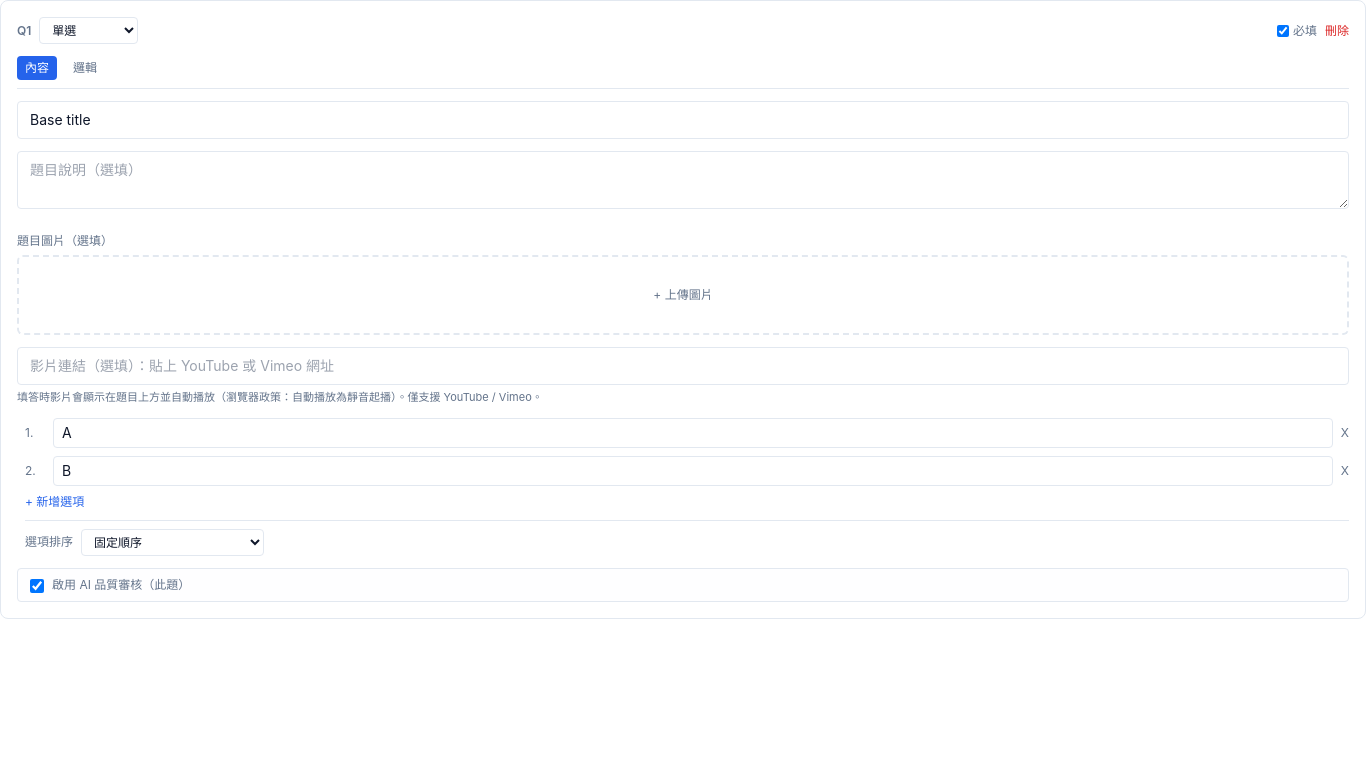
Scenario: QuestionEditor › shows no jump rules message when logic tab has none
Click the button "邏輯" at coordinates (85, 68), box [65, 56, 105, 80]
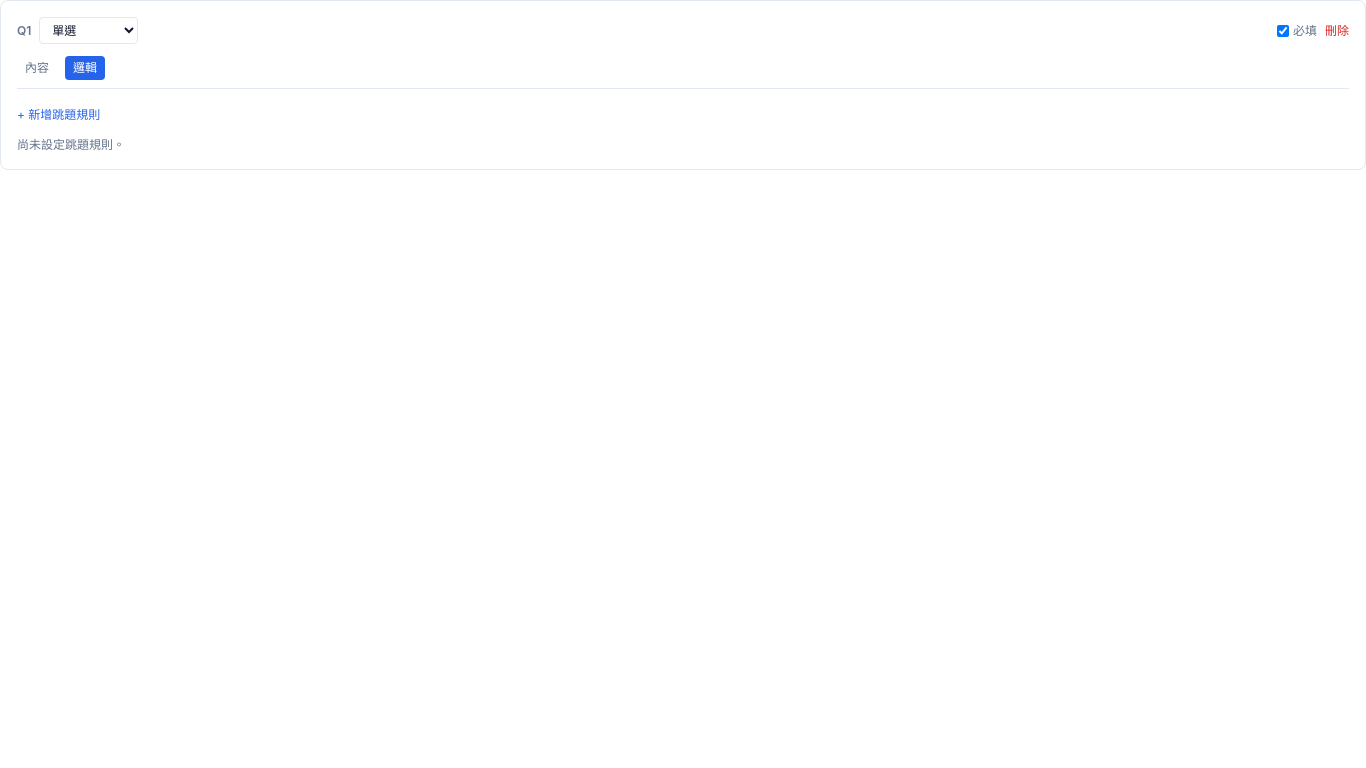
Check: the text "尚未設定跳題規則。" is shown, box [17, 137, 125, 152]
